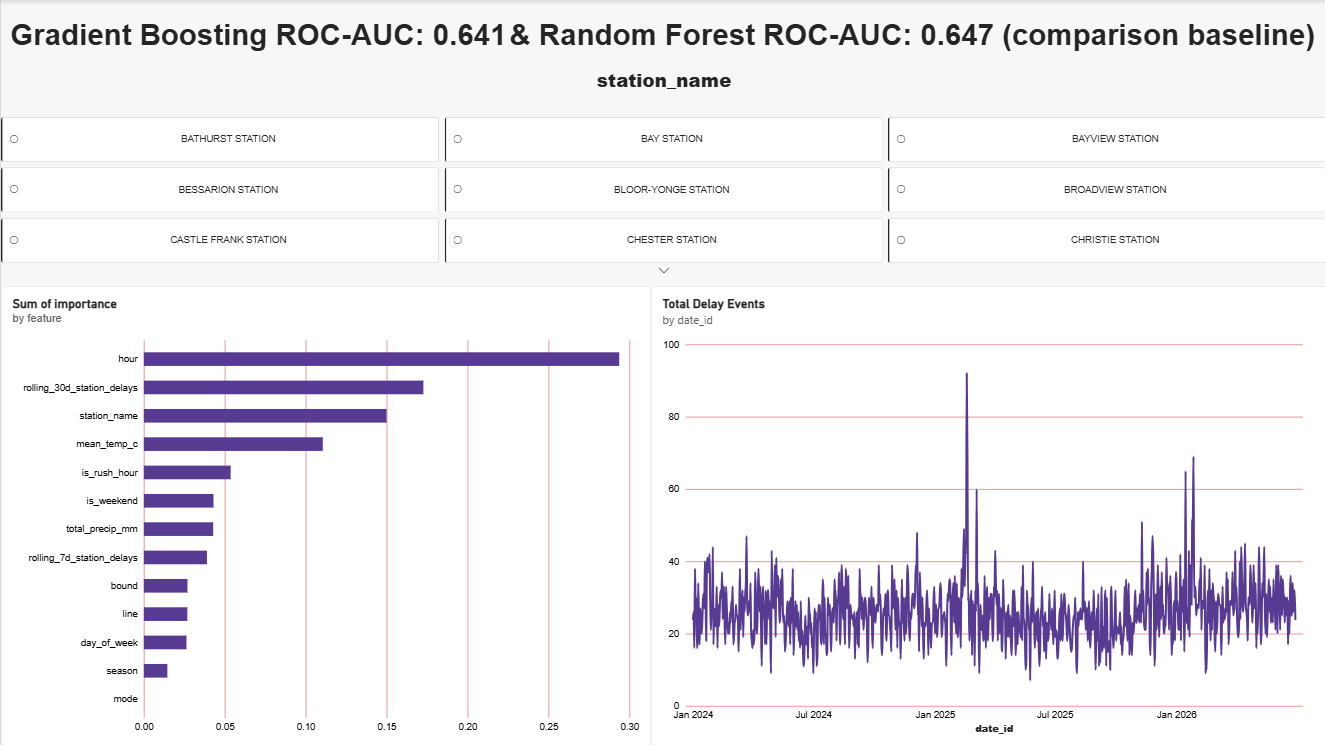

This screenshot's page, from the dashboard's own definition file:
{"tool":"powerbi","page":{"name":"Model Insights","canvas":[1920,1080],"ordinal":2},"visuals":[{"type":"clusteredBarChart","fields":{"Category":["feature_importances.feature"],"Y":["Sum(feature_importances.importance)"]},"box":[0,414.4,941,666],"z":0},{"type":"textbox","box":[0,25.3,745.6,106.8],"z":1000},{"type":"textbox","box":[694.9,25.3,1225.1,106.8],"z":2000},{"type":"lineChart","fields":{"Category":["dim_date.date_id"],"Y":["fact_delay_events.Total Delay Events"]},"box":[941,414.4,979,666],"z":3000},{"type":"advancedSlicerVisual","fields":{"Values":["dim_station.station_name"]},"box":[0,95.9,1920.1,305.8],"z":4000}]}

Visuals, with their boxes in screenshot pixels (x1, y1, x2, y2), scaled from the page's 1920x1080 canvas onto the 1325x745 screenshot:
clusteredBarChart - feature_importances.feature x Sum(feature_importances.importance): Rect(0, 286, 649, 744)
textbox: Rect(0, 17, 515, 91)
textbox: Rect(480, 17, 1324, 91)
lineChart - dim_date.date_id x fact_delay_events.Total Delay Events: Rect(649, 286, 1324, 744)
advancedSlicerVisual - dim_station.station_name: Rect(0, 66, 1324, 277)
